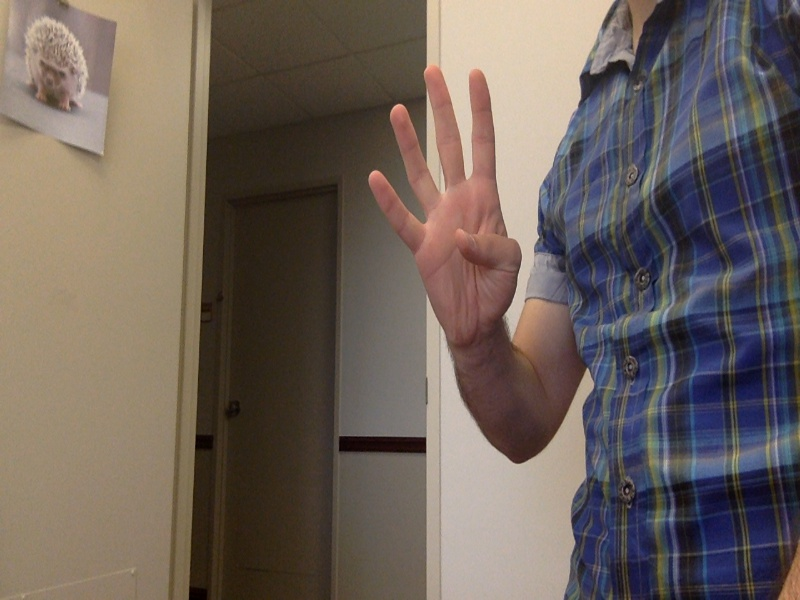4-hand: (366, 68, 523, 350)
